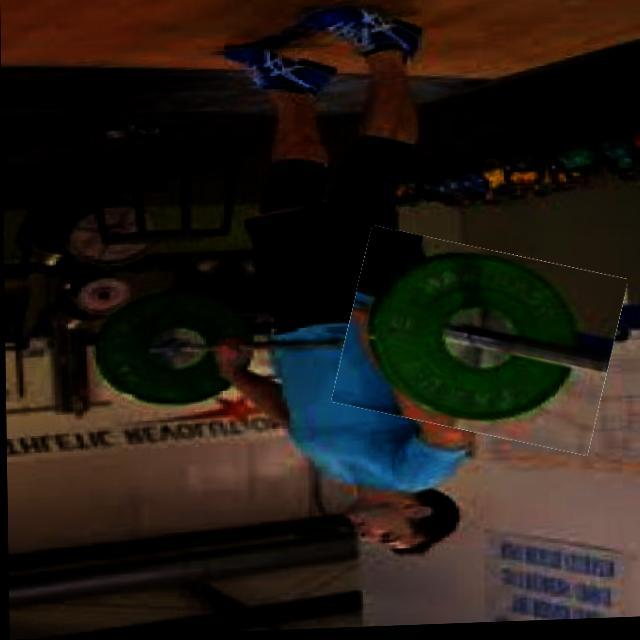barbell: (338, 236, 621, 453)
